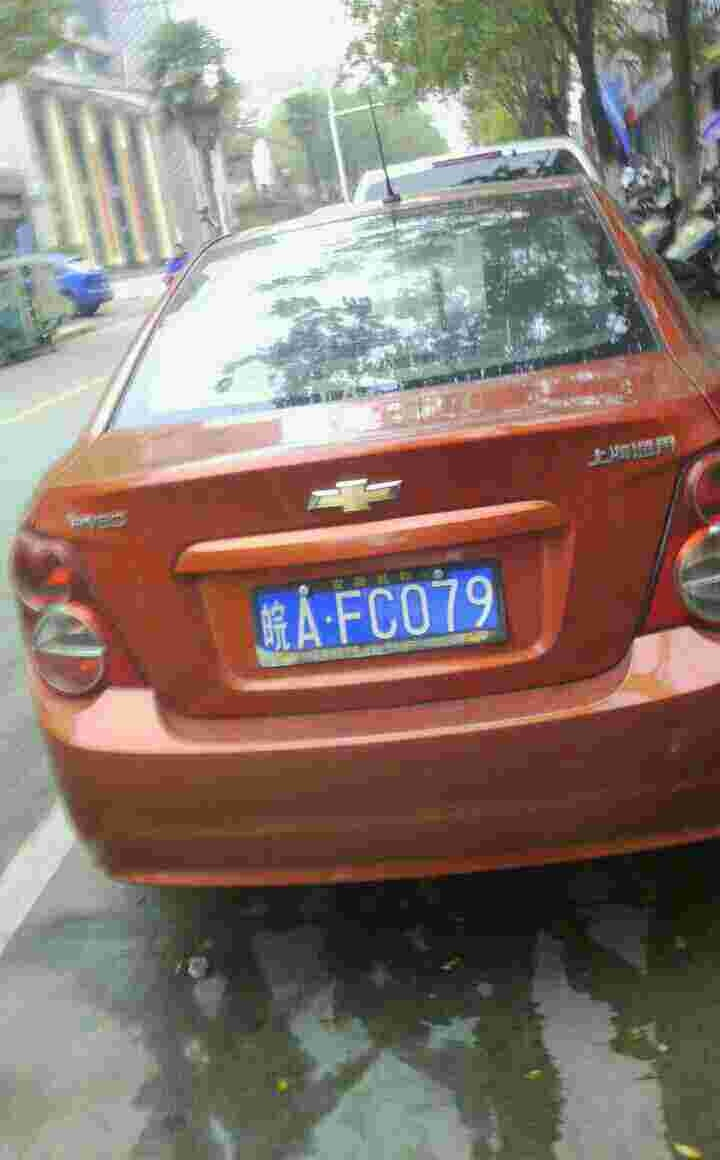plate: (250, 555, 512, 671)
